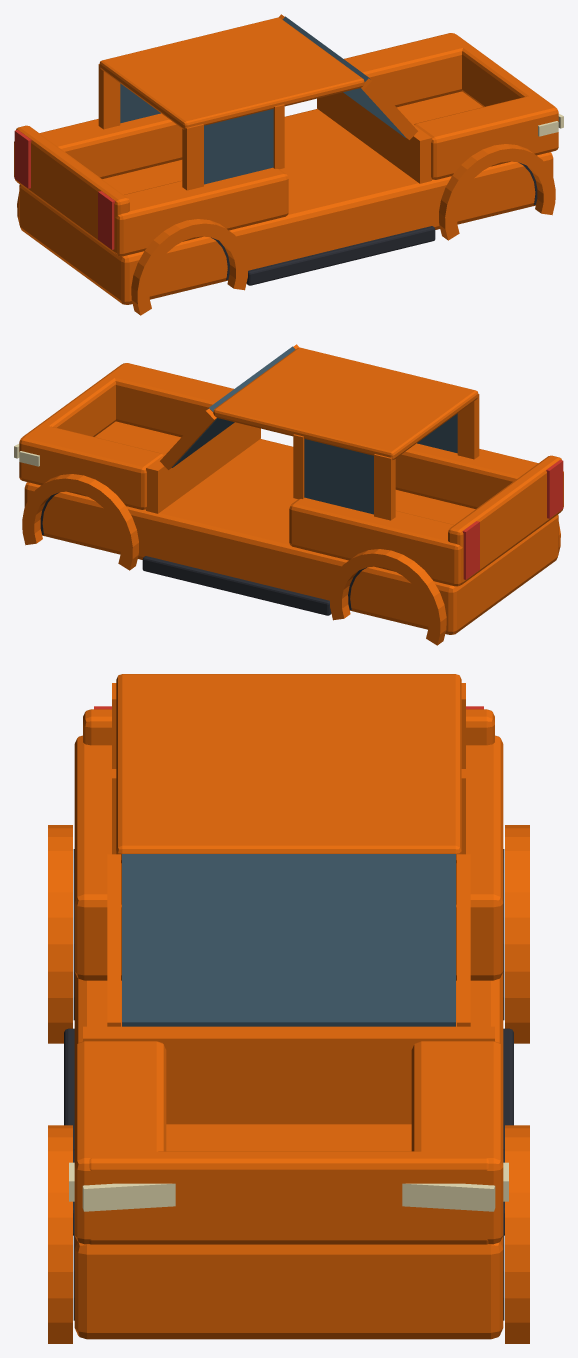
The model's file is chassis_shell.obj.
The picture shows the model from 3 angles, top to bottom: view 1: azimuth 30°, elevation 25°; view 2: azimuth 150°, elevation 25°; view 3: azimuth 270°, elevation 25°; orthographic projection. The views are drawn at different scales.
Visible parts, largest first — view 1: arch; view 2: arch; view 3: arch.
Part boxes in pixels (x1,y1,x2,y2): arch: (14,14,563,315); arch: (14,344,563,645); arch: (48,674,529,1343).
Size of the model in its own units: 3.73 by 1.32 by 1.73.
